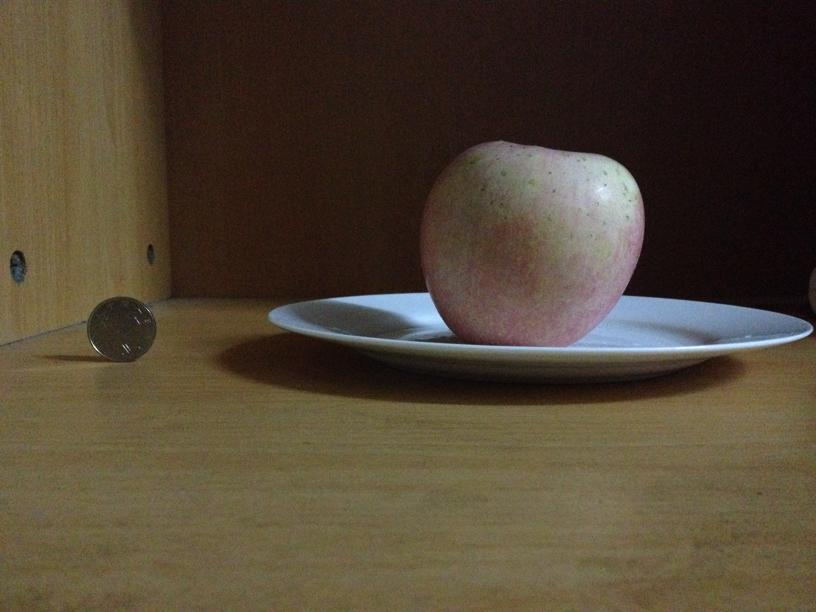apple: (420, 139, 643, 345)
coin: (87, 296, 156, 362)
